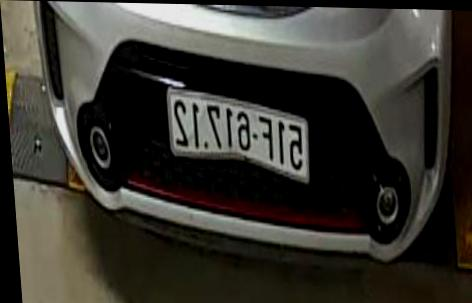License_Plate: (154, 91, 316, 179)
